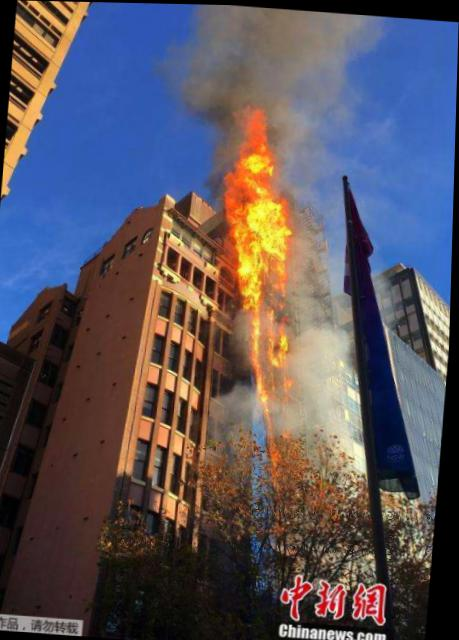fire: (206, 100, 326, 443)
